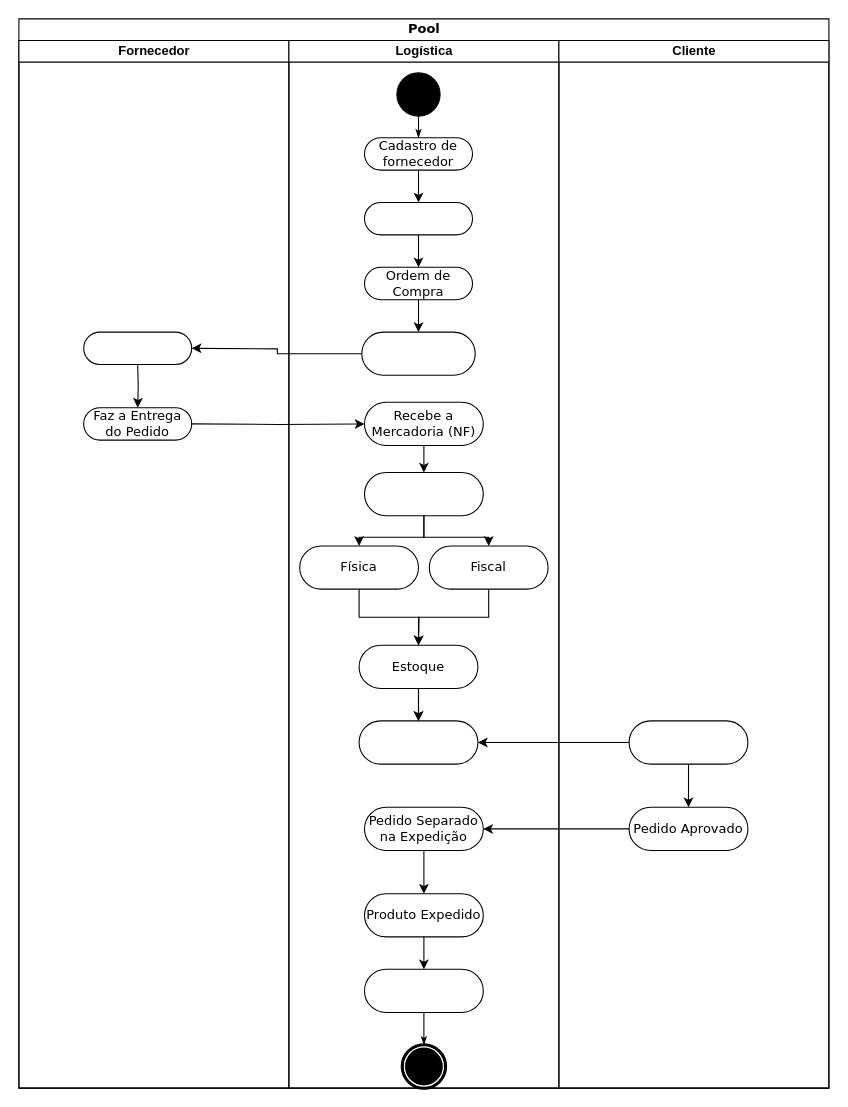
This 848x1107 diagram has some shape labels left out. The centre of each missing label's shape, as x and y in pixels:
Compra do Pedido: (418,218)
Conferencia: (423,493)
Faturamento de Entrada: (418,353)
Faz o Pedido: (688,742)
Prepara o Pedido: (137,347)
Produto Disponível: (418,742)
Produto Liberado Para Entrega: (423,990)
